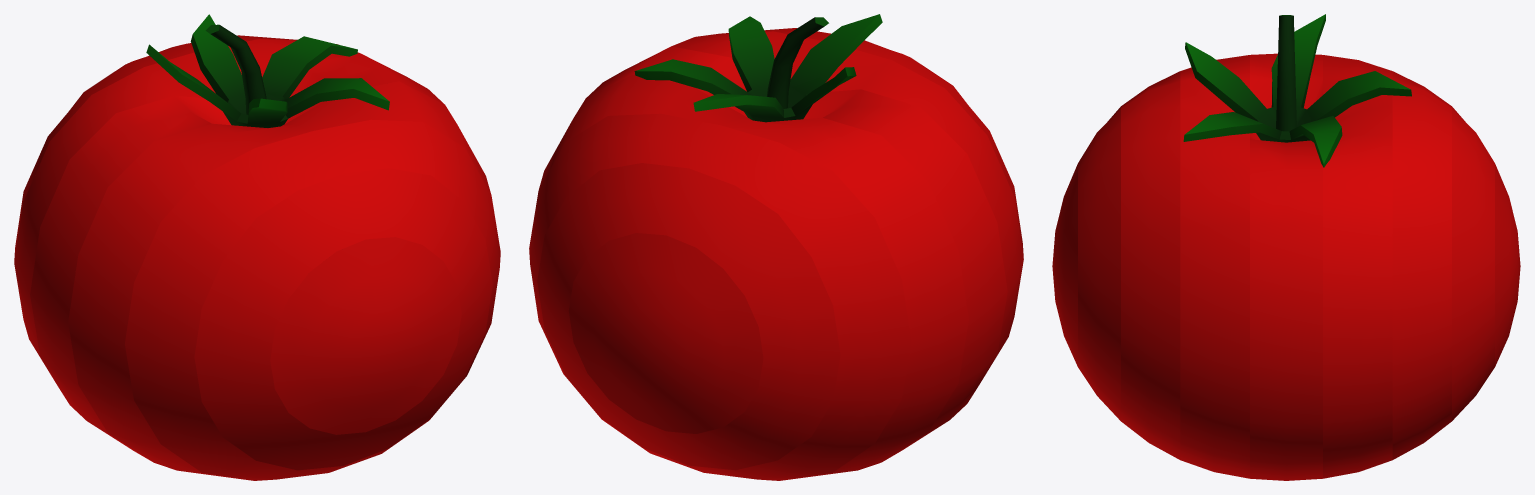
Rendered from tomoto.fbx.
The picture shows the model from 3 angles, left to right: view 1: azimuth 30°, elevation 25°; view 2: azimuth 150°, elevation 25°; view 3: azimuth 270°, elevation 25°; orthographic projection. The views are drawn at different scales.
Parts seen in each view (by area): view 1: polySurface1, polySurface3, polySurface2, polySurface4, polySurface7, polySurface5, polySurface8, polySurface9, polySurface6; view 2: polySurface10, polySurface9, polySurface11, polySurface8, polySurface7, polySurface4, polySurface5, polySurface3, polySurface6; view 3: polySurface7, polySurface8, polySurface4, polySurface3, polySurface9, polySurface10, polySurface1, polySurface5, polySurface2, polySurface11, polySurface6.
Part boxes in pixels (<box>): polySurface1: <box>194,168,492,470</box>; polySurface3: <box>125,119,500,480</box>; polySurface2: <box>270,237,461,434</box>; polySurface4: <box>68,81,491,480</box>; polySurface7: <box>30,53,444,460</box>; polySurface5: <box>146,14,389,127</box>; polySurface8: <box>14,39,360,398</box>; polySurface9: <box>14,35,297,260</box>; polySurface6: <box>205,24,266,114</box>; polySurface10: <box>537,163,840,470</box>; polySurface9: <box>529,113,911,480</box>; polySurface11: <box>568,233,763,433</box>; polySurface8: <box>539,74,968,480</box>; polySurface7: <box>586,46,1007,460</box>; polySurface4: <box>672,31,1023,397</box>; polySurface5: <box>634,14,882,122</box>; polySurface3: <box>726,28,1023,256</box>; polySurface6: <box>767,17,828,108</box>; polySurface7: <box>1250,53,1322,480</box>; polySurface8: <box>1323,55,1392,478</box>; polySurface4: <box>1180,55,1249,478</box>; polySurface3: <box>1121,71,1180,459</box>; polySurface9: <box>1392,71,1451,459</box>; polySurface10: <box>1452,106,1494,420</box>; polySurface1: <box>1078,106,1120,420</box>; polySurface5: <box>1183,14,1411,167</box>; polySurface2: <box>1052,164,1077,366</box>; polySurface11: <box>1495,164,1520,366</box>; polySurface6: <box>1276,15,1296,131</box>.
Bounding box in the file's own units: 396 × 380 × 396.
